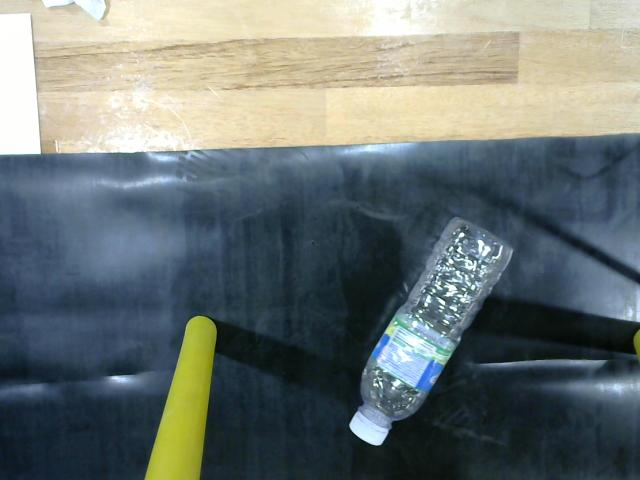bottle: (350, 208, 525, 449)
